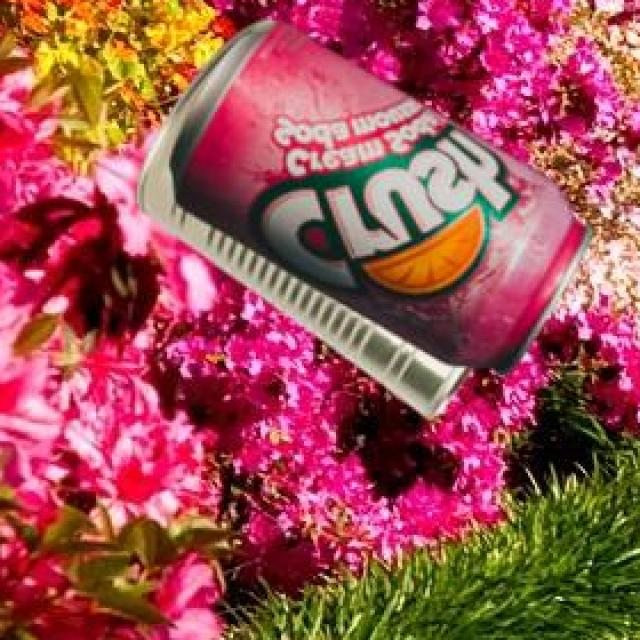logam: (175, 19, 595, 371), (141, 17, 477, 415)
